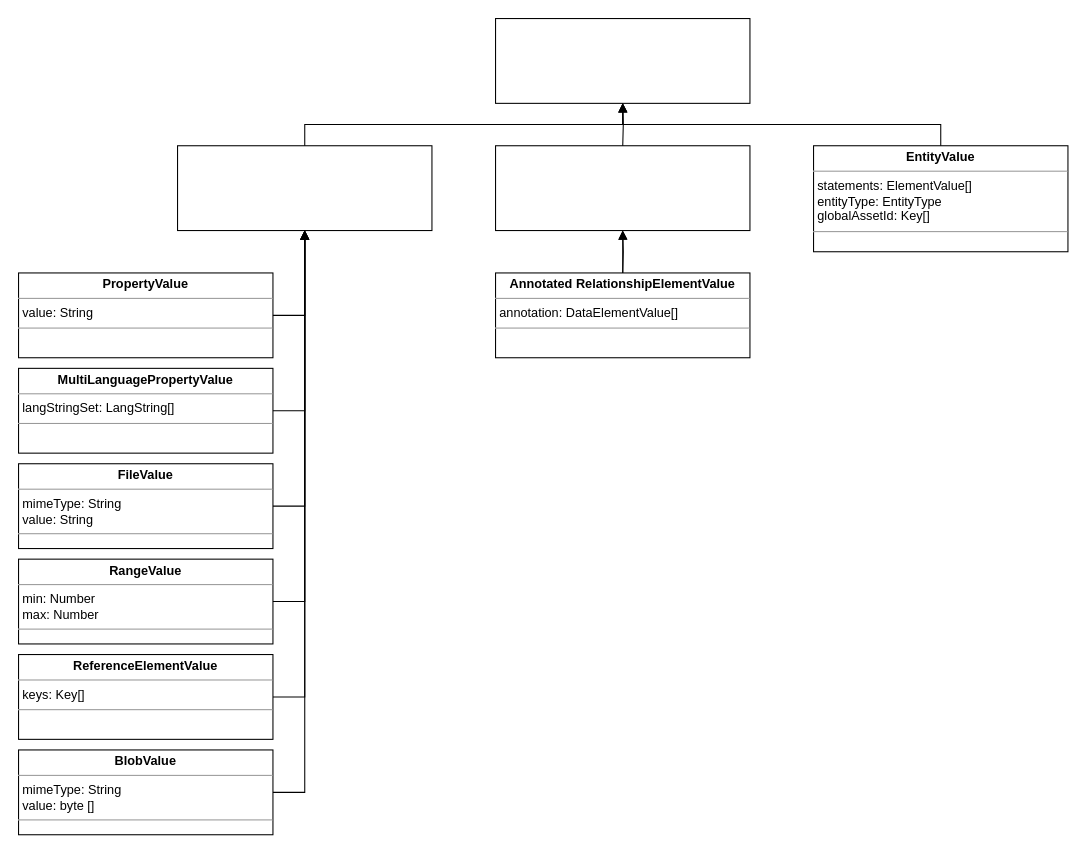
The diagram is 1087 pixels wide and 853 high, and some of its shapes have lost their labels. Each missing label, with the centre of its shape:
DataElementValue: (x=304, y=188)
ElementValue: (x=622, y=60)
RelationshipElementValue first: Key[] second: Key[]: (x=622, y=188)
